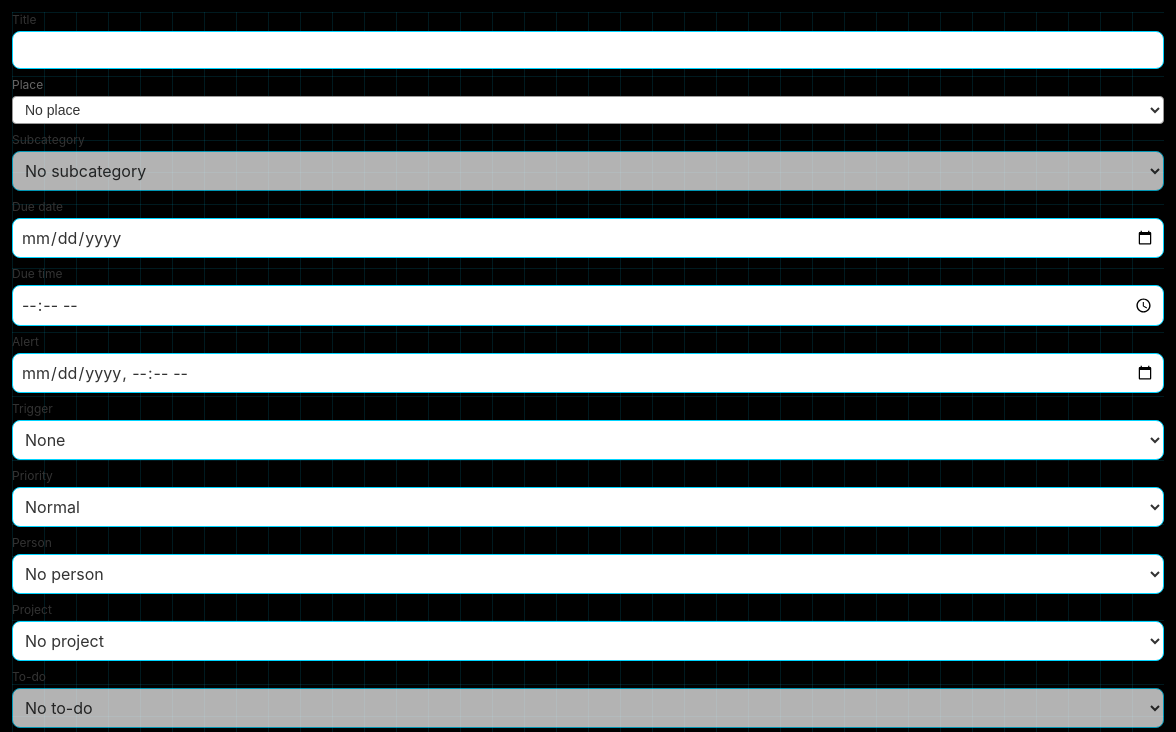
Test case: ReminderForm › lists only the chosen place subcategories
This screenshot has width=1176, height=732.
Select "Shop" in the dropdown labelled "Place" at (588, 110), box left=12, top=96, right=1164, bottom=124
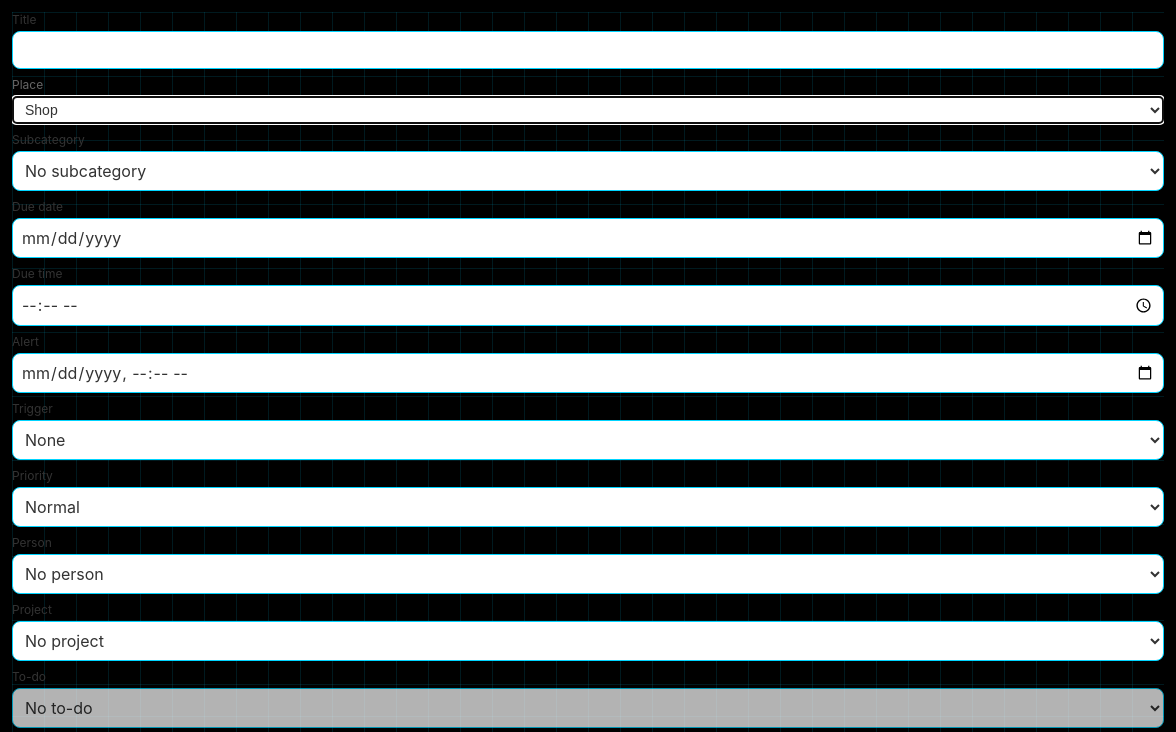
Now the dropdown labelled "Subcategory" is enabled, box left=12, top=151, right=1164, bottom=191
